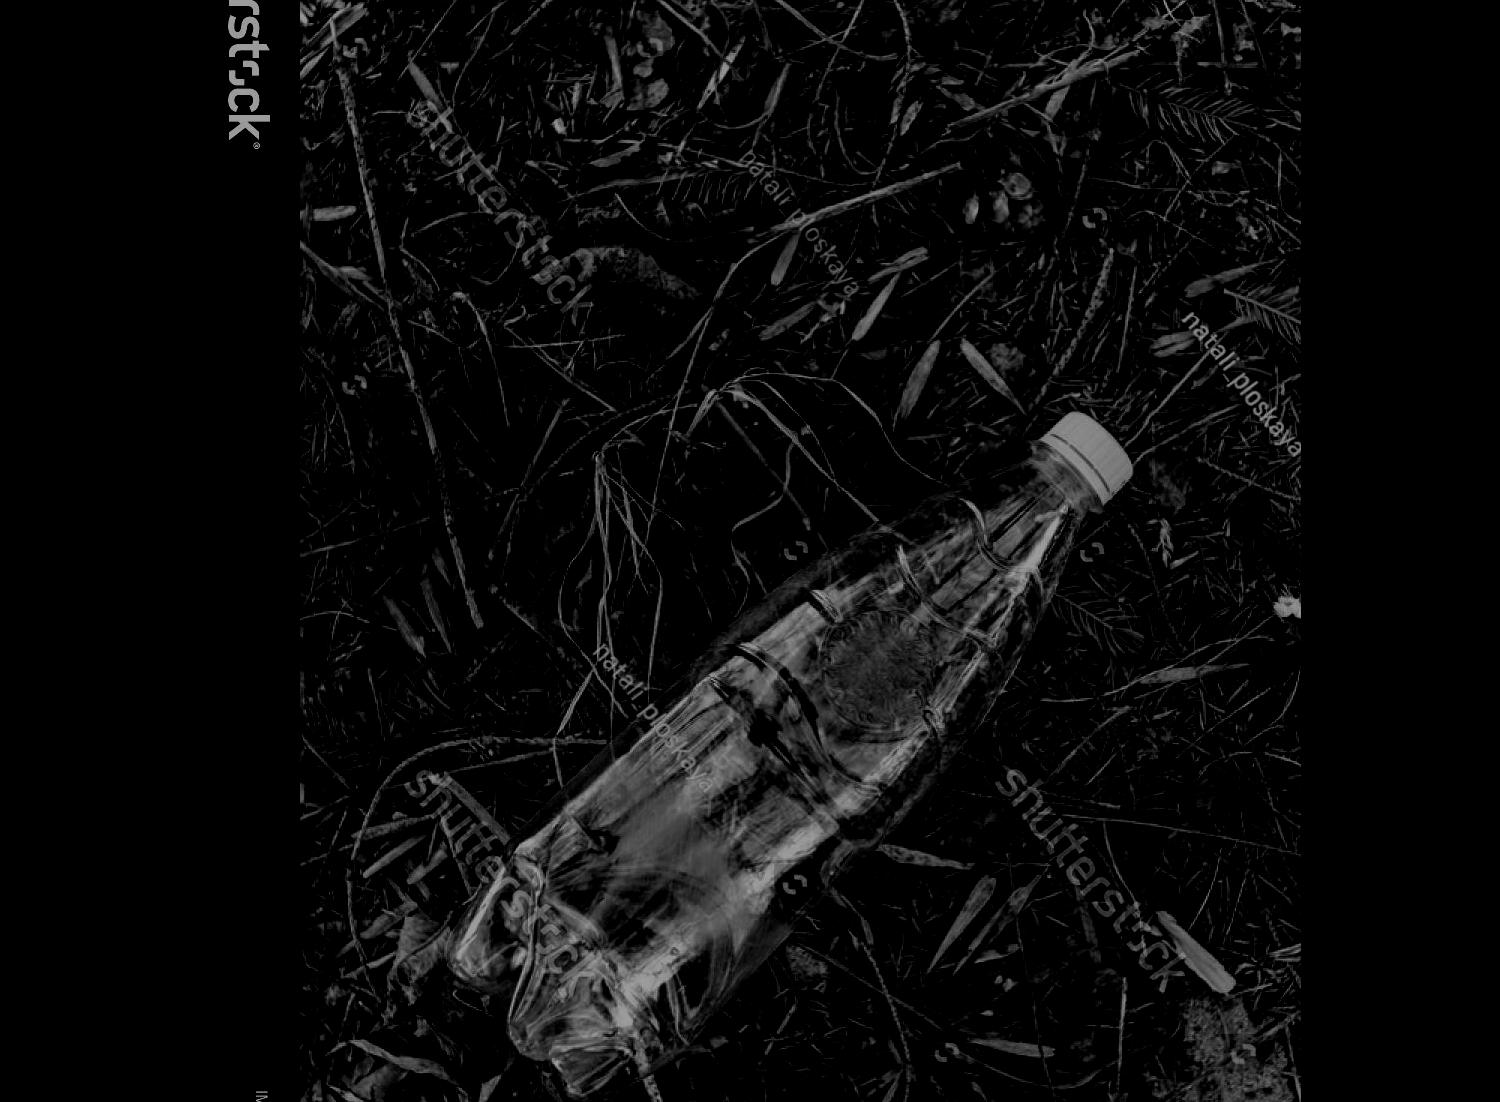bottle: (465, 391, 1126, 1102)
